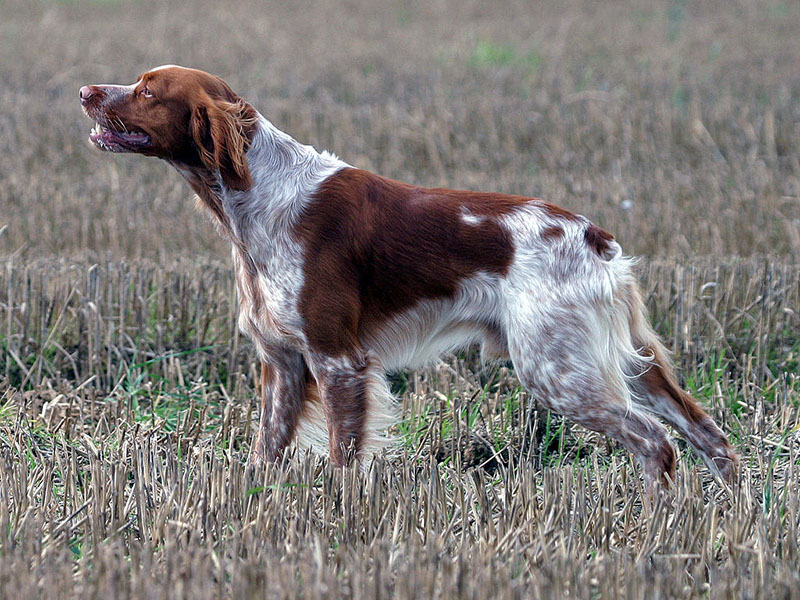cane da caccia: (72, 54, 763, 522)
